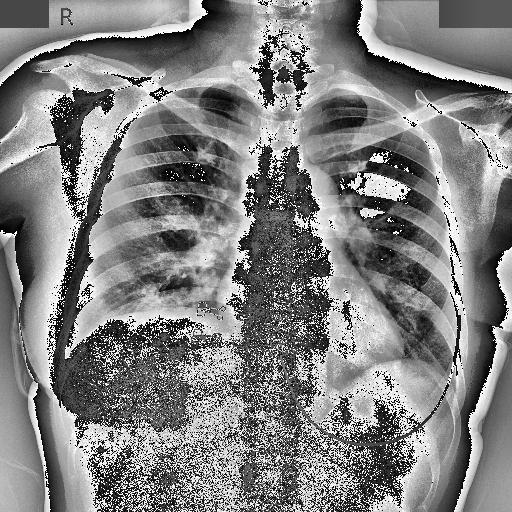0- Aortic enlargement: (284, 163, 340, 223)
2- Calcification: (114, 334, 189, 433), (327, 214, 348, 238)
7- Lung Opacity: (327, 214, 348, 238)
9- Other lesion: (106, 330, 200, 443), (106, 335, 206, 436)
